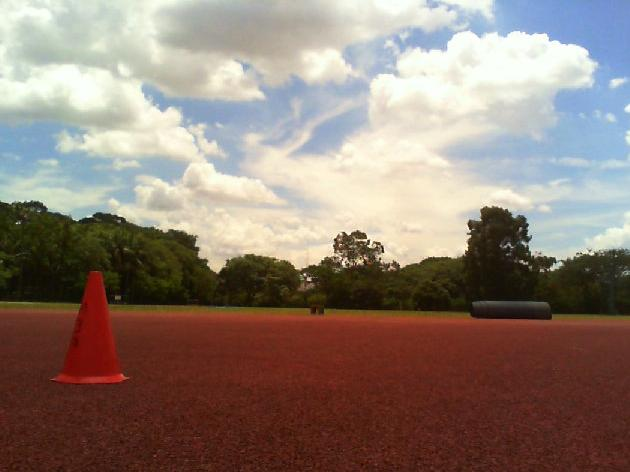0 cone: (50, 272, 130, 385)
